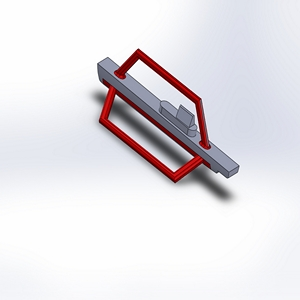submarine: (66, 47, 262, 203)
